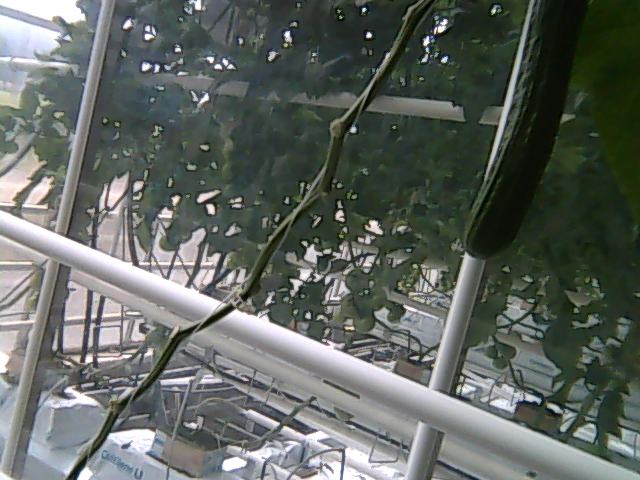concombre: (457, 1, 589, 261)
